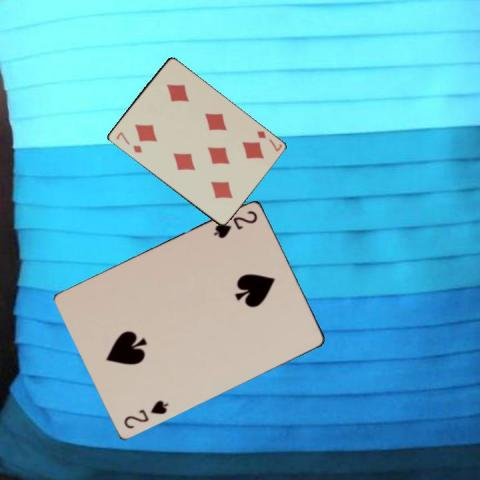2s: (121, 397, 169, 430), (210, 207, 259, 239)
7d: (113, 128, 143, 154), (253, 128, 284, 153)
